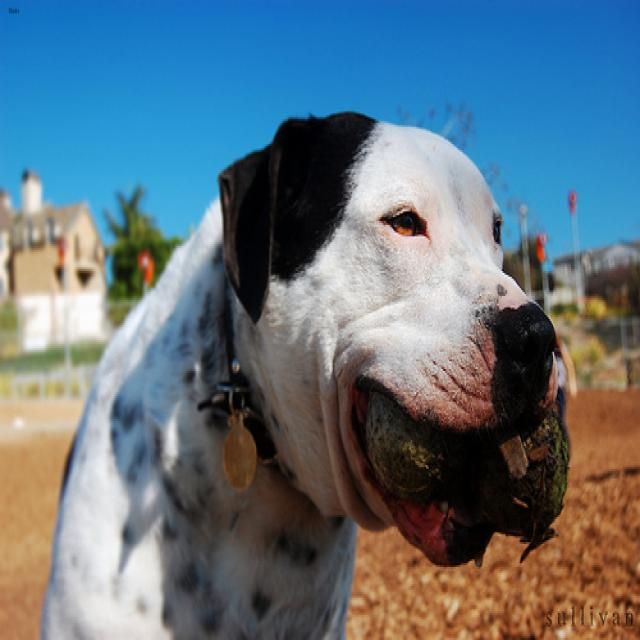dog-american_bulldog: (26, 96, 580, 636)
